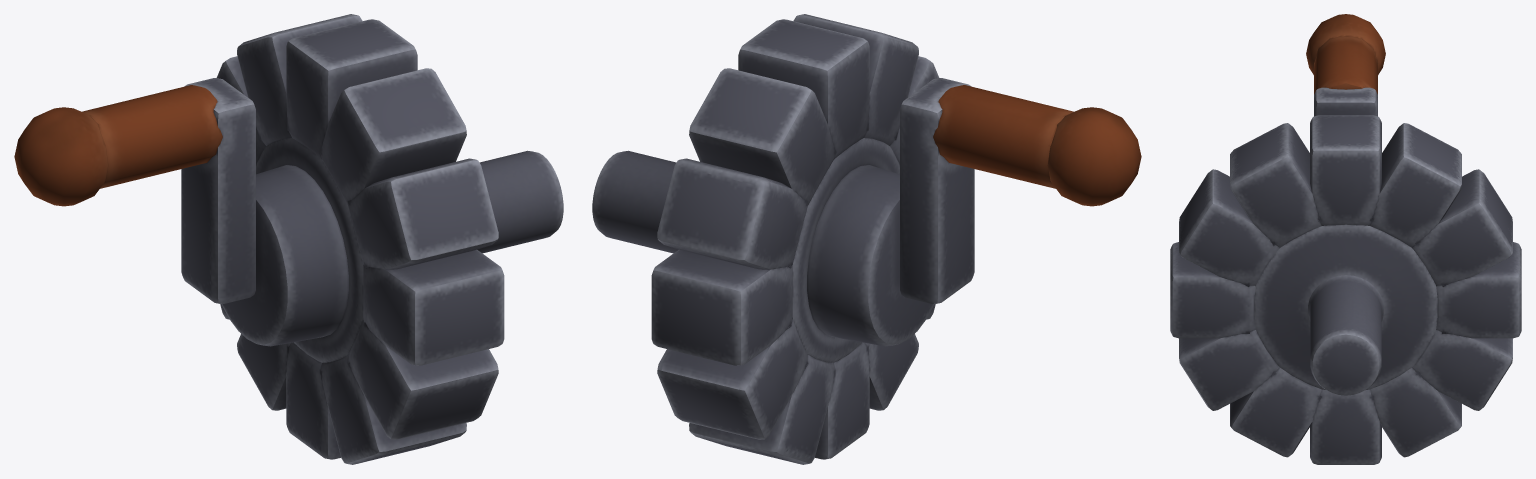
The model's file is gear.glb.
3 views of the same model, side by side, from view 1: azimuth 30°, elevation 25°; view 2: azimuth 150°, elevation 25°; view 3: azimuth 270°, elevation 25° (orthographic). The views are drawn at different scales.
Parts seen in each view (by area): view 1: gear; view 2: gear; view 3: gear.
Part boxes in pixels (<box>): gear: <box>14,14,563,464</box>; gear: <box>592,14,1141,464</box>; gear: <box>1170,14,1521,464</box>.
Bounding box in the file's own units: 0.61 × 0.44 × 0.44.
2 materials, 2 textured.
